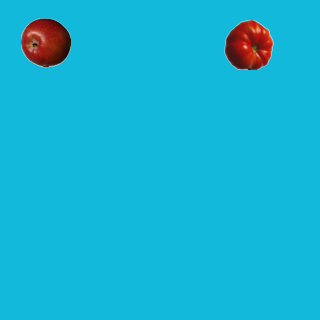Apple Braeburn: (20, 17, 70, 67)
Tomato 3: (223, 19, 273, 69)
